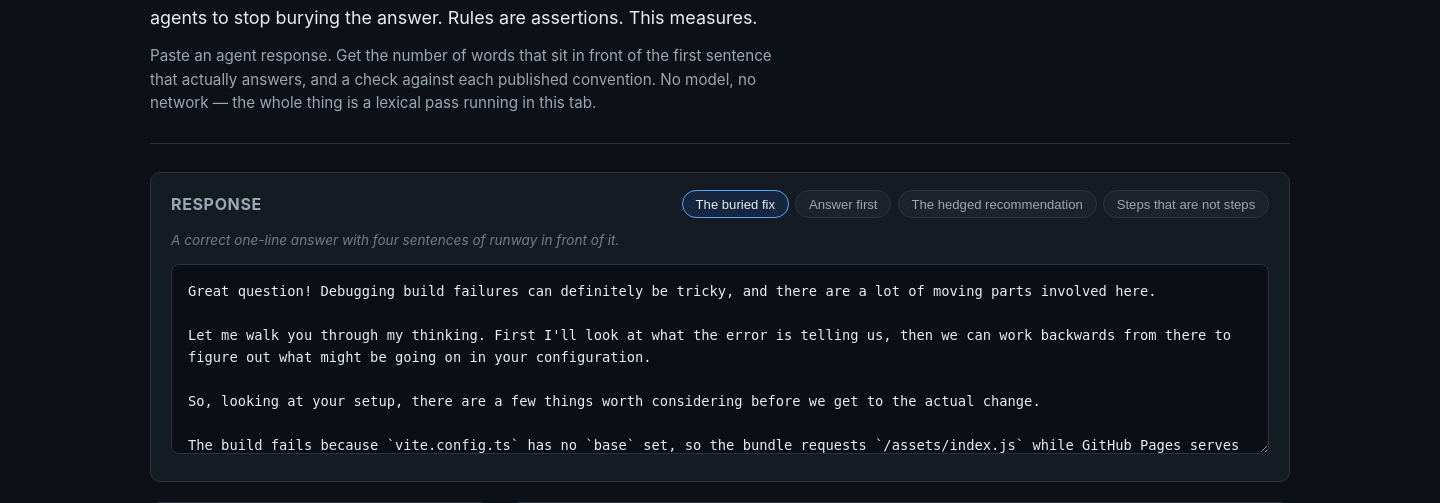
Scenario: App › disables the rule button when a rule has no evidence to show
This screenshot has width=1440, height=503.
Replace the text in the text box named "response to analyse" with "Run `npm ci`." at (720,359), box [171,264,1269,454]
(page scrolled)
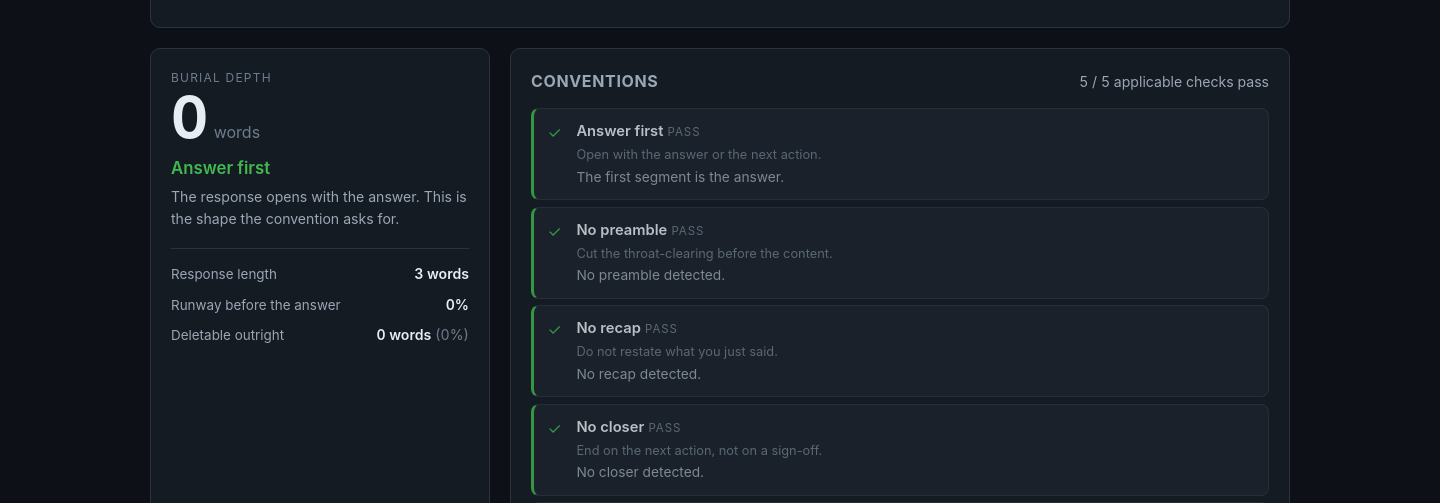
expect the button "No preamble" is disabled: met, box [531,207,1269,299]
